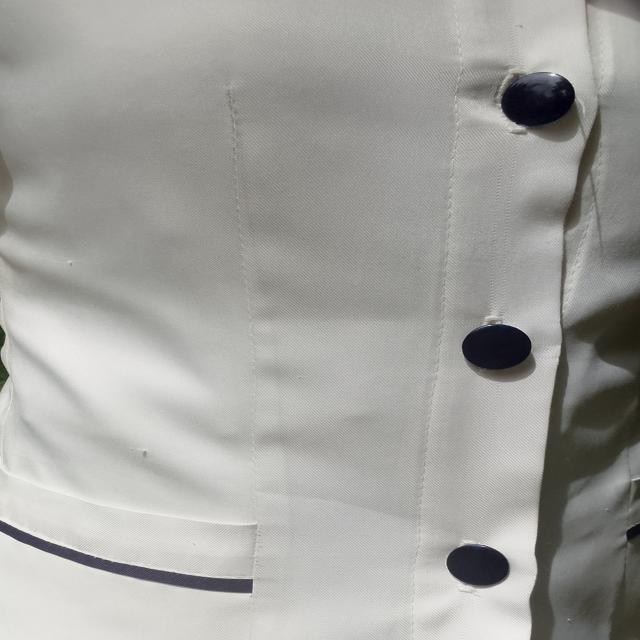education_female_uniform: (5, 12, 634, 639)
